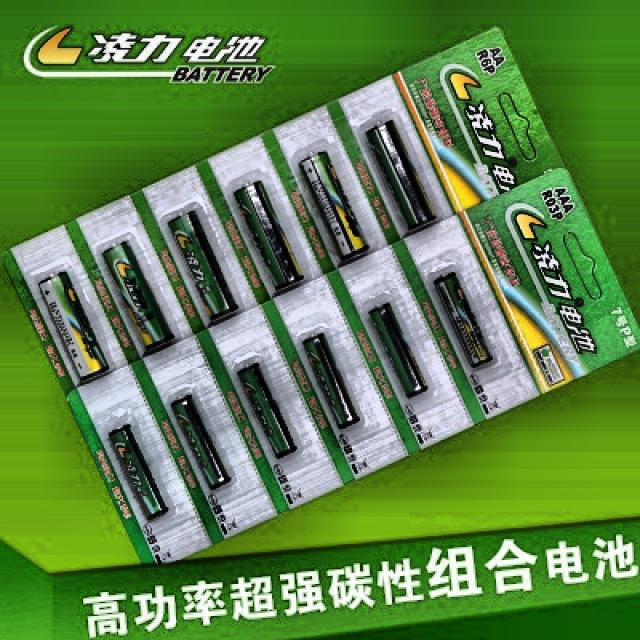Non-Valuable Waste - Batteries: (102, 242, 172, 348), (39, 272, 108, 378), (300, 151, 368, 258), (366, 121, 434, 228), (169, 212, 236, 318), (235, 182, 302, 288), (171, 395, 230, 487), (110, 425, 168, 518), (435, 274, 491, 366), (370, 304, 426, 396), (239, 364, 295, 456), (304, 334, 359, 427)
